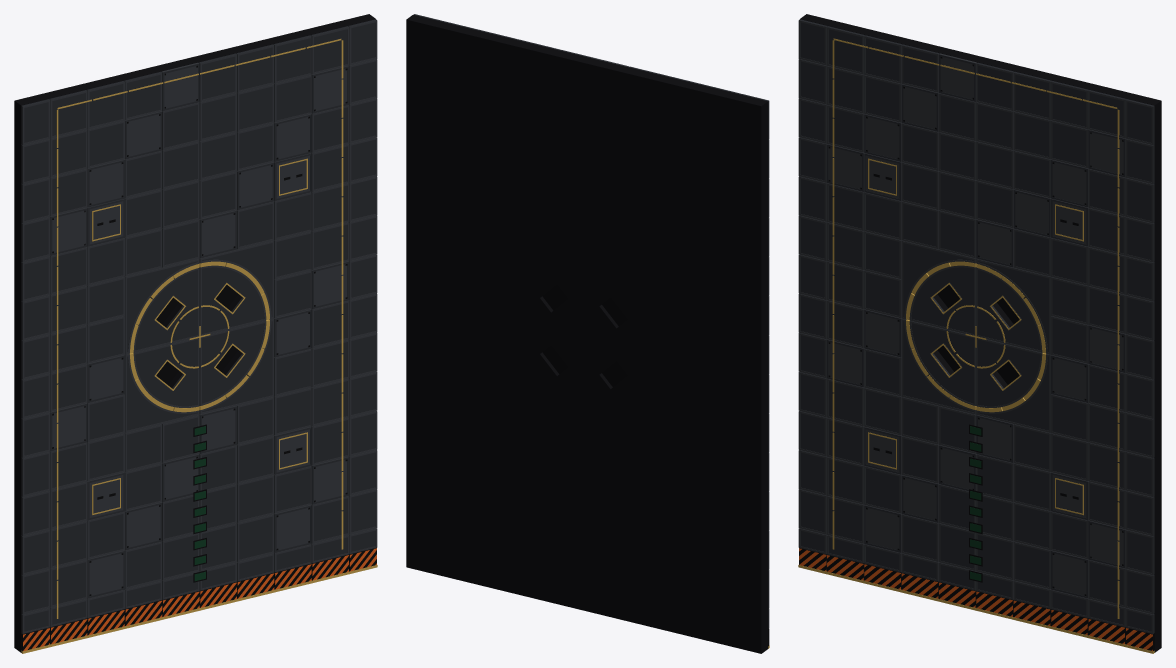
The model's file is hangar.obj.
3 renders of one model, left to right at view 1: azimuth 30°, elevation 25°; view 2: azimuth 150°, elevation 25°; view 3: azimuth 330°, elevation 25°, orthographic.
Parts seen in each view (by area): view 1: FLOOR_CENTER__floor2, FLOOR_CENTER__floor, FLOOR_PERIMETER__floor2, LANDING_PAD__floor2, FLOOR_PERIMETER__floor, FLOOR_UNDERLAY__under, LANDING_PAD__floor, FLOOR_HATCHES__floor, GATE_THRESHOLD__dark, GATE_THRESHOLD__hazard, INLAYS__brass, PAD_RING__brass (+7 smaller); view 2: FLOOR_UNDERLAY__under, CLAMP_PITS__dark, FLOOR_PERIMETER__floor2, FLOOR_PERIMETER__floor; view 3: FLOOR_CENTER__floor2, FLOOR_CENTER__floor, FLOOR_PERIMETER__floor2, LANDING_PAD__floor2, FLOOR_PERIMETER__floor, FLOOR_UNDERLAY__under, LANDING_PAD__floor, FLOOR_HATCHES__floor, GATE_THRESHOLD__dark, INLAYS__brass, GATE_THRESHOLD__hazard, PAD_RING__brass (+7 smaller).
Boxes of the visible parts, x1,y1,x2,y2 form: FLOOR_CENTER__floor2: (49, 26, 349, 626); FLOOR_CENTER__floor: (50, 27, 349, 626); FLOOR_PERIMETER__floor2: (21, 19, 376, 633); LANDING_PAD__floor2: (125, 240, 273, 432); FLOOR_PERIMETER__floor: (22, 20, 377, 633); FLOOR_UNDERLAY__under: (14, 14, 375, 652); LANDING_PAD__floor: (125, 241, 274, 432); FLOOR_HATCHES__floor: (87, 153, 310, 519); GATE_THRESHOLD__dark: (21, 547, 376, 651); GATE_THRESHOLD__hazard: (23, 548, 376, 651); INLAYS__brass: (56, 39, 343, 618); PAD_RING__brass: (130, 261, 269, 412); FLOOR_UNDERLAY__under: (406, 14, 768, 653); CLAMP_PITS__dark: (542, 284, 627, 386); FLOOR_PERIMETER__floor2: (414, 14, 768, 628); FLOOR_PERIMETER__floor: (416, 14, 769, 627); FLOOR_CENTER__floor2: (826, 26, 1126, 626); FLOOR_CENTER__floor: (826, 27, 1125, 626); FLOOR_PERIMETER__floor2: (799, 19, 1154, 633); LANDING_PAD__floor2: (902, 240, 1050, 432); FLOOR_PERIMETER__floor: (798, 20, 1153, 633); FLOOR_UNDERLAY__under: (800, 14, 1161, 652); LANDING_PAD__floor: (901, 241, 1050, 432); FLOOR_HATCHES__floor: (865, 153, 1088, 519); GATE_THRESHOLD__dark: (799, 547, 1154, 651); INLAYS__brass: (832, 38, 1119, 618); GATE_THRESHOLD__hazard: (799, 548, 1152, 651); PAD_RING__brass: (906, 261, 1045, 412).
Size of the model in its own units: 76 by 112 by 3.12.
